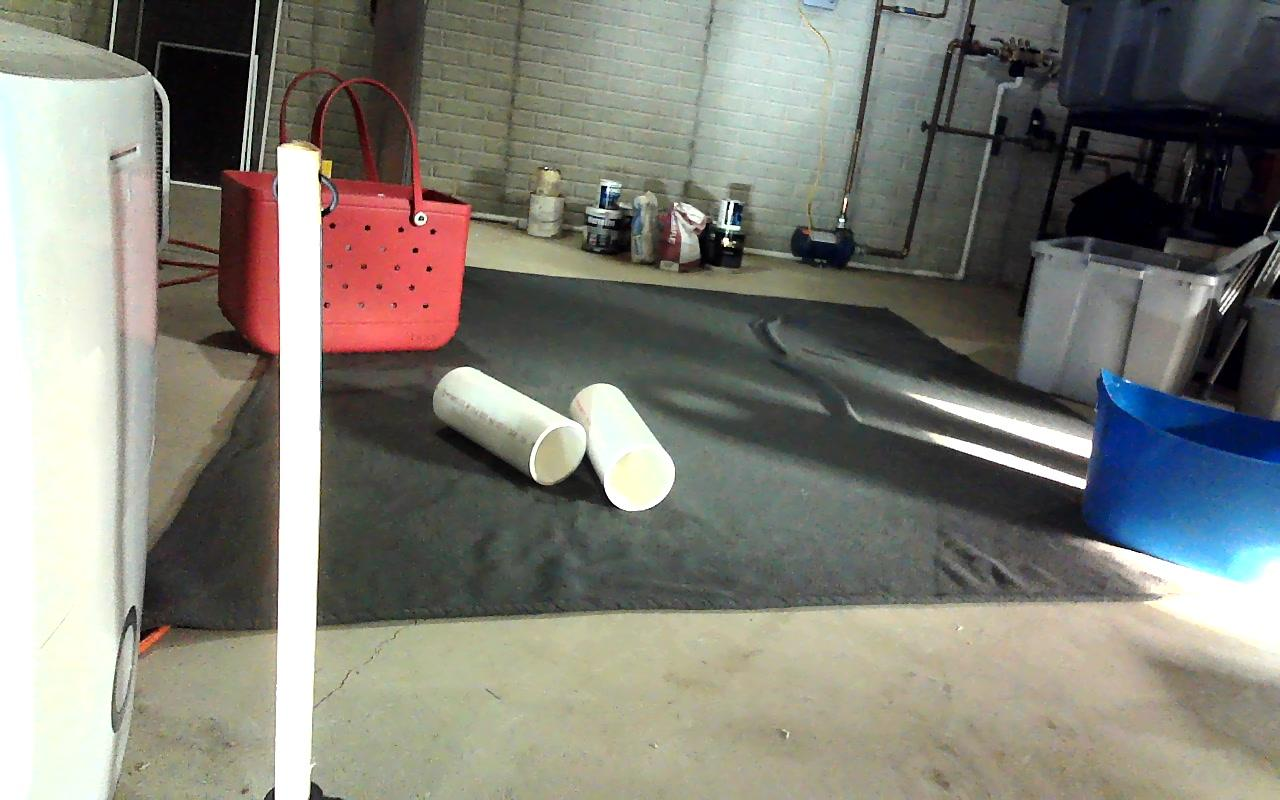coral: (431, 366, 585, 485), (570, 386, 674, 511)
